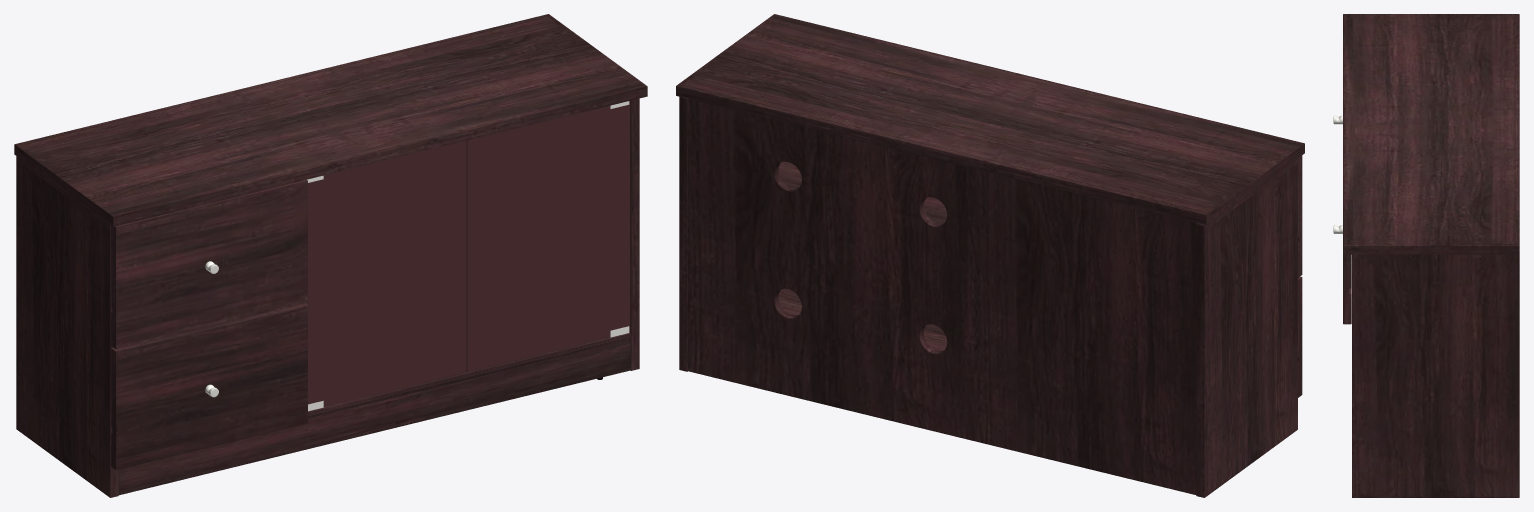
Rendered from abo-B07LC5TNFD.glb.
3 renders of one model, left to right at view 1: azimuth 30°, elevation 25°; view 2: azimuth 150°, elevation 25°; view 3: azimuth 270°, elevation 25°, orthographic. The views are drawn at different scales.
Size of the model in its own units: 1.19 by 0.614 by 0.404.
Materials: 1 (1 with a texture image).
